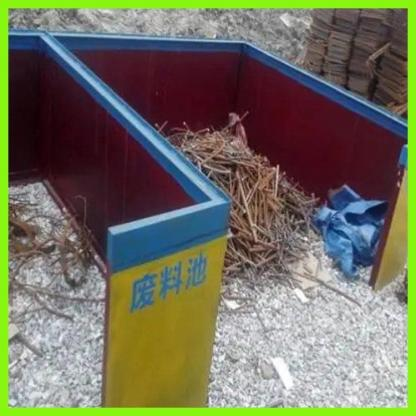rebar: (157, 126, 315, 281), (4, 199, 94, 290)
